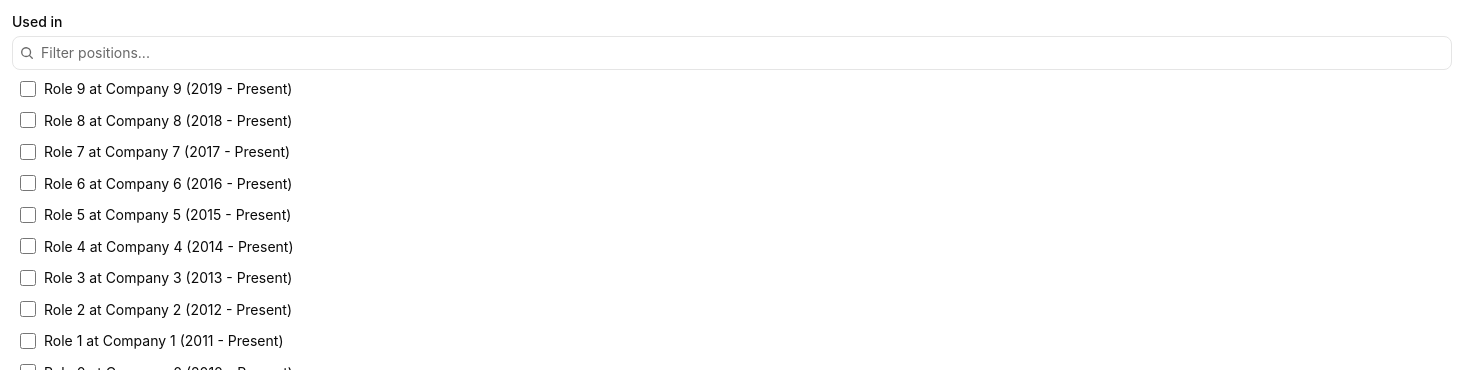
Scenario: PositionLinkList › shows empty message when filter matches nothing
This screenshot has width=1464, height=387.
Type "zzzzz" into the field labelled "Filter positions" at (732, 53), box [12, 36, 1452, 70]
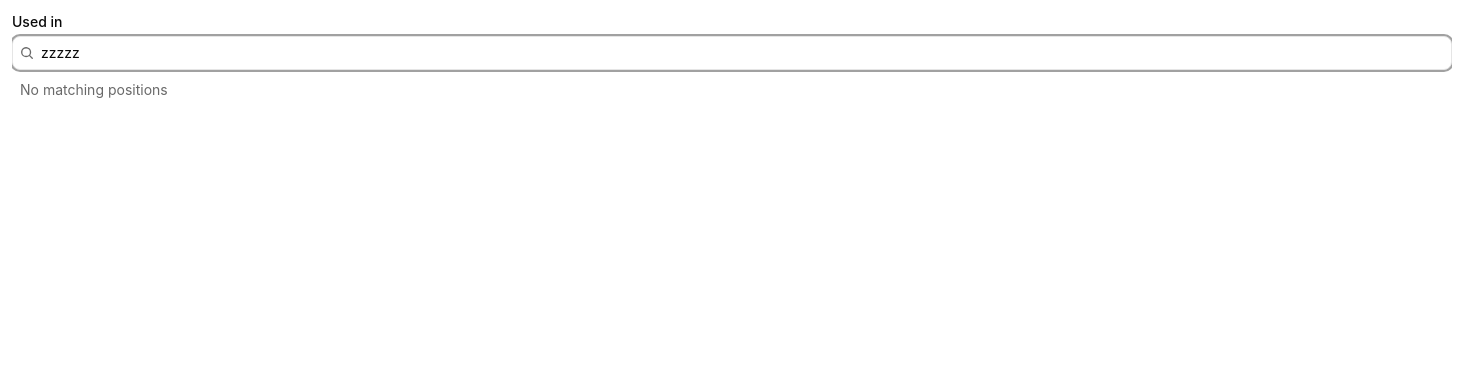
Now the text "No matching positions" is shown, box [20, 81, 168, 98]
Now no checkboxes are shown
